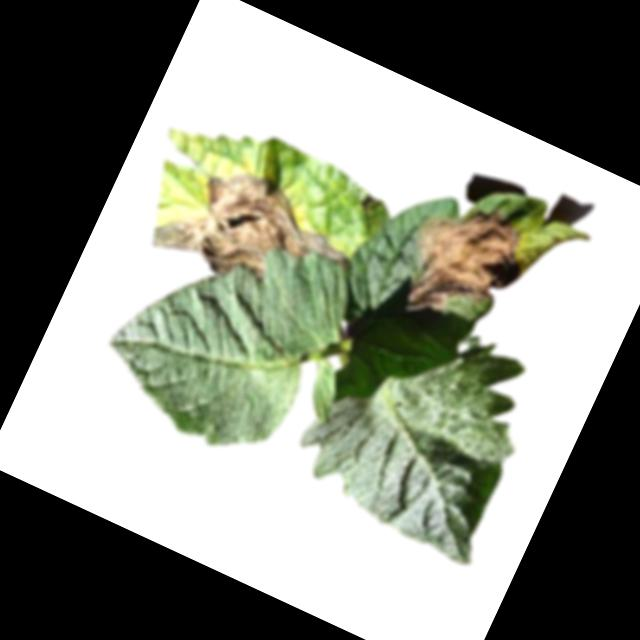Late_blight: (147, 142, 368, 325), (388, 179, 543, 342)
